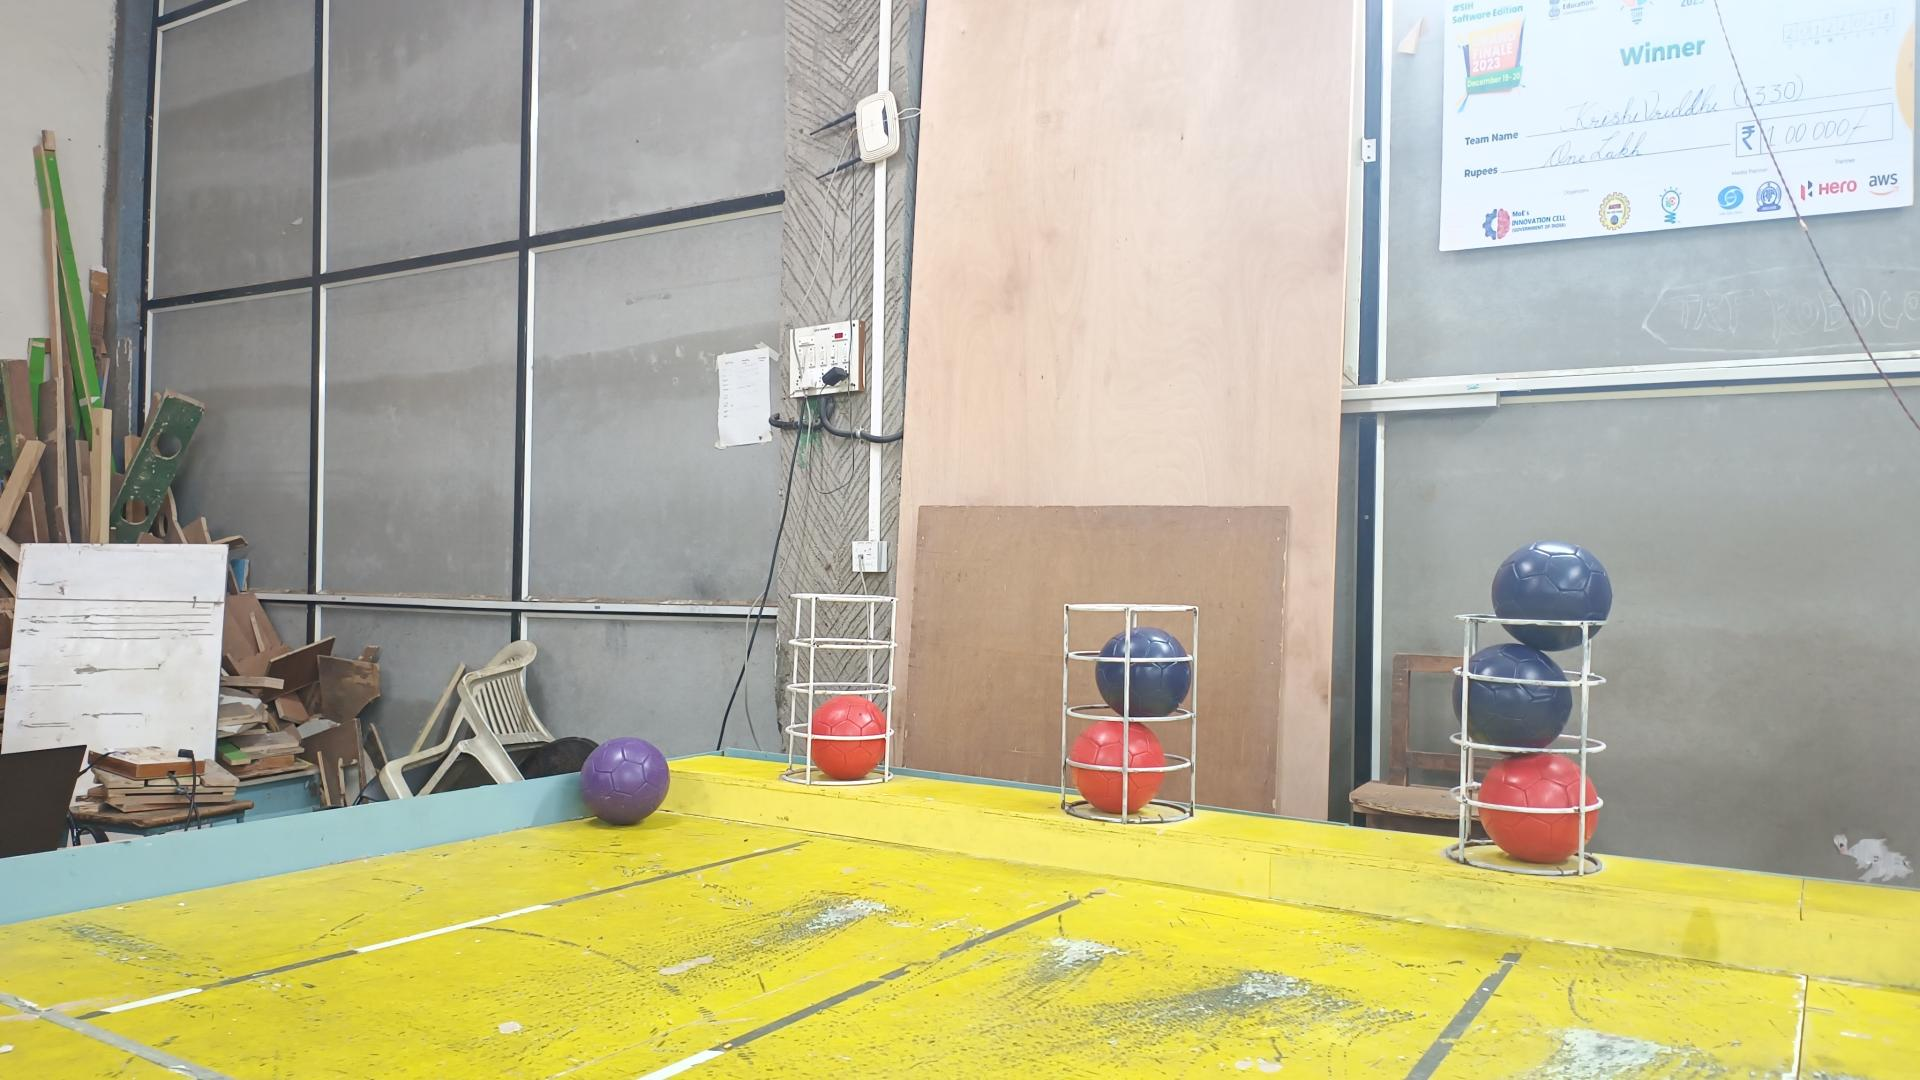dhoka: (1491, 539, 1611, 653), (1451, 647, 1571, 749), (1095, 628, 1192, 719)
laale: (1474, 748, 1602, 861), (1071, 720, 1168, 814), (814, 695, 889, 782)
